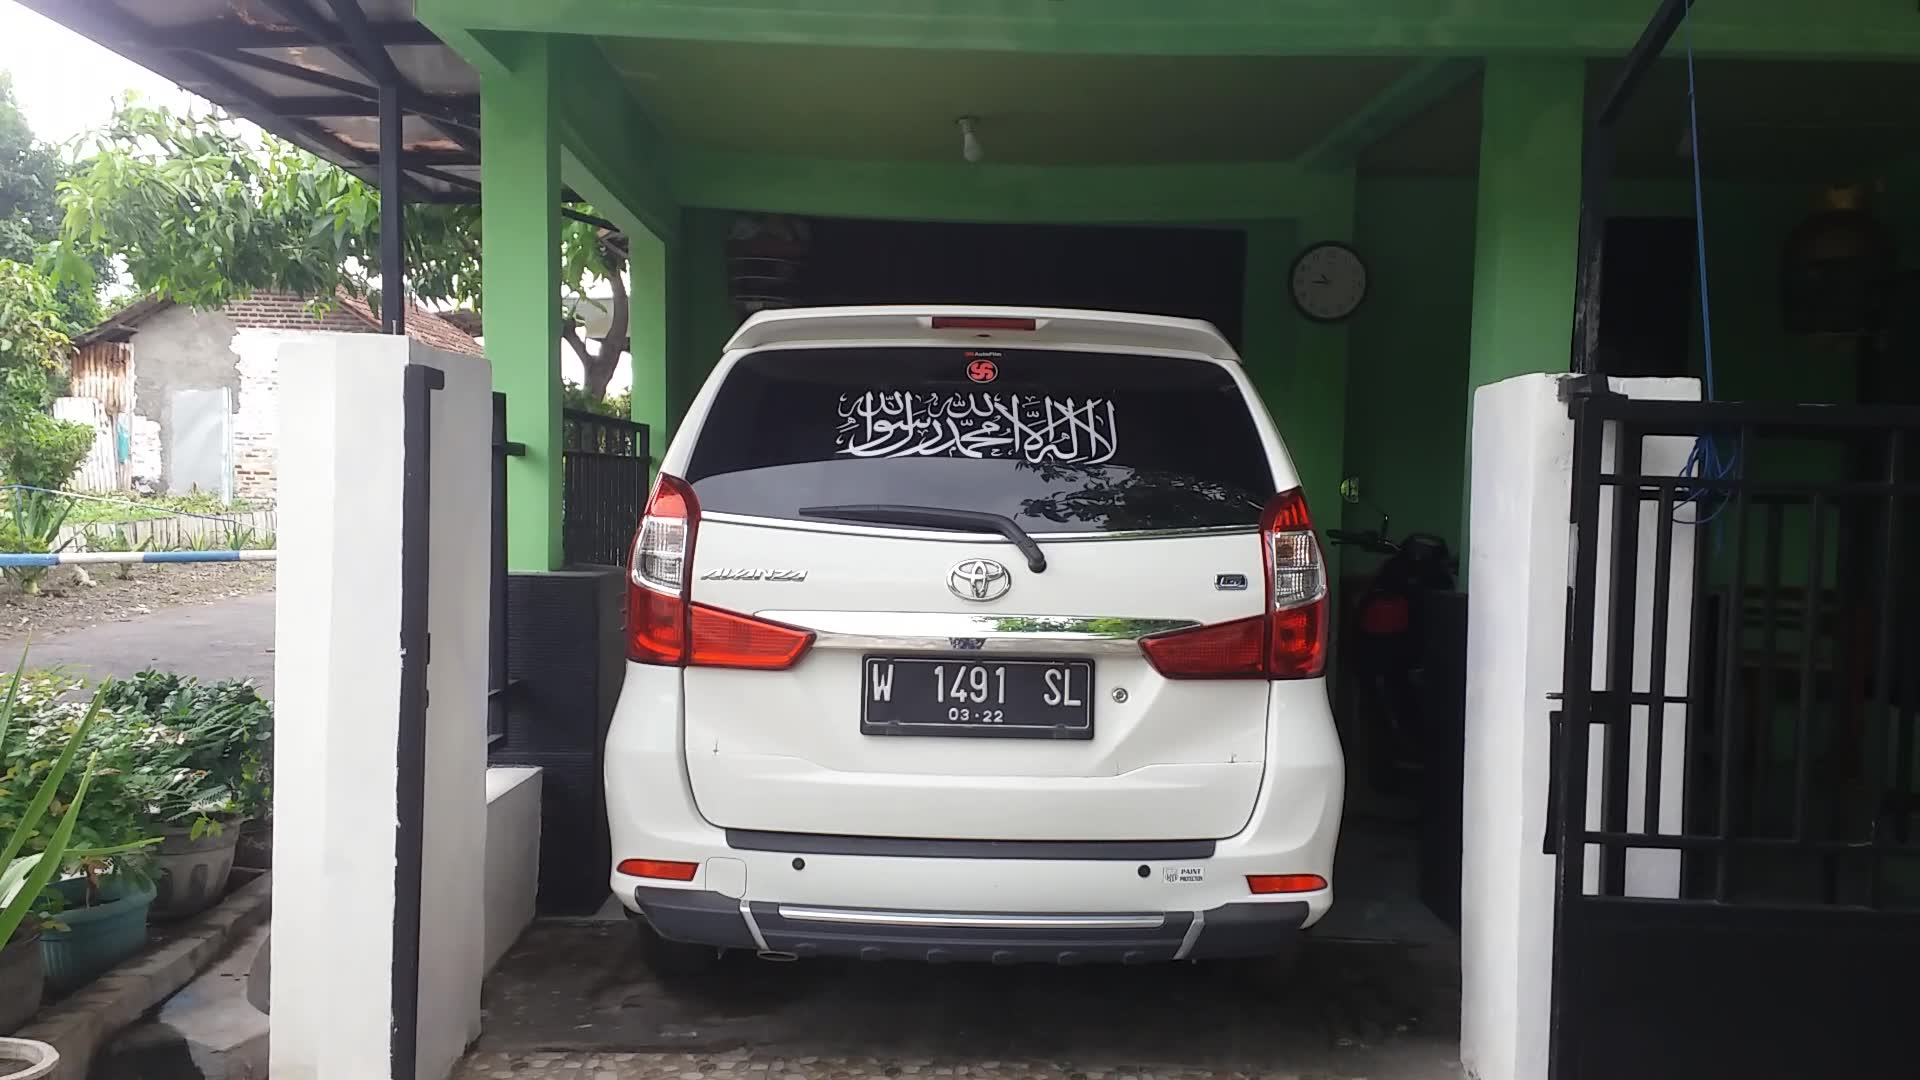plate_positive: (862, 654, 1095, 740)
